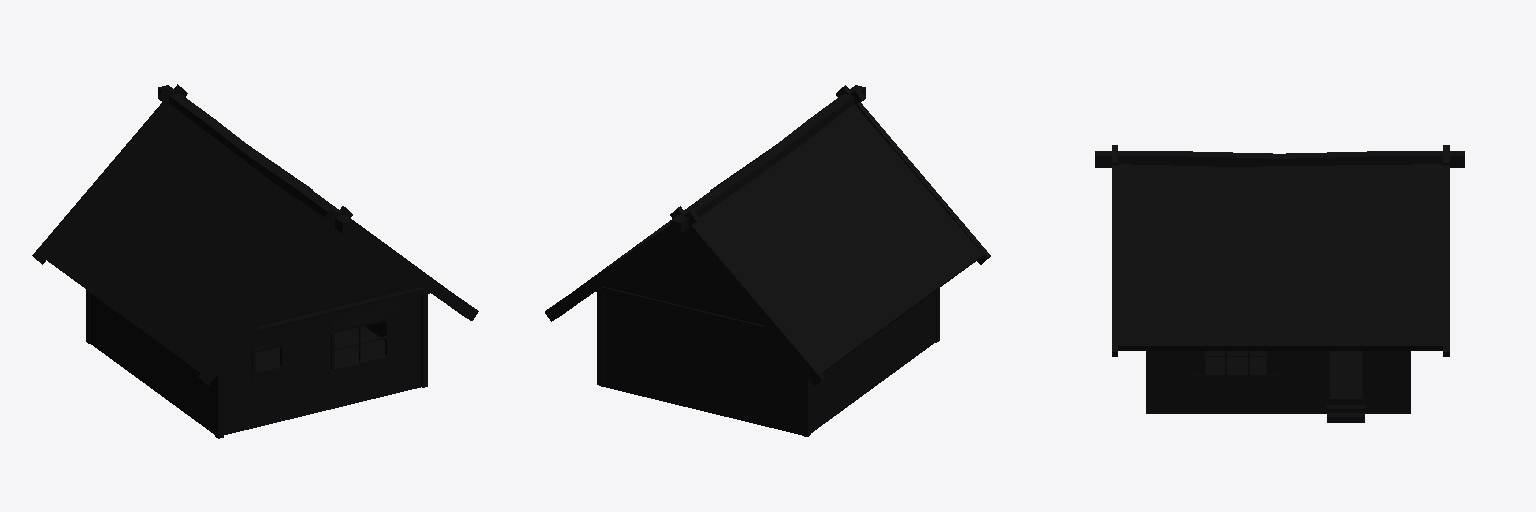
Rendered from WoodHouse.obj.
The picture shows the model from 3 angles: view 1: azimuth 30°, elevation 25°; view 2: azimuth 150°, elevation 25°; view 3: azimuth 270°, elevation 25°; orthographic projection.
Parts seen in each view (by area): view 1: WoodHouse_Cube.021; view 2: WoodHouse_Cube.021; view 3: WoodHouse_Cube.021.
Boxes of the visible parts, x1=… form: WoodHouse_Cube.021: x1=32, y1=84, x2=478, y2=438; WoodHouse_Cube.021: x1=545, y1=85, x2=990, y2=436; WoodHouse_Cube.021: x1=1095, y1=145, x2=1464, y2=422.
Size of the model in its own units: 4.16 by 3.09 by 4.8.